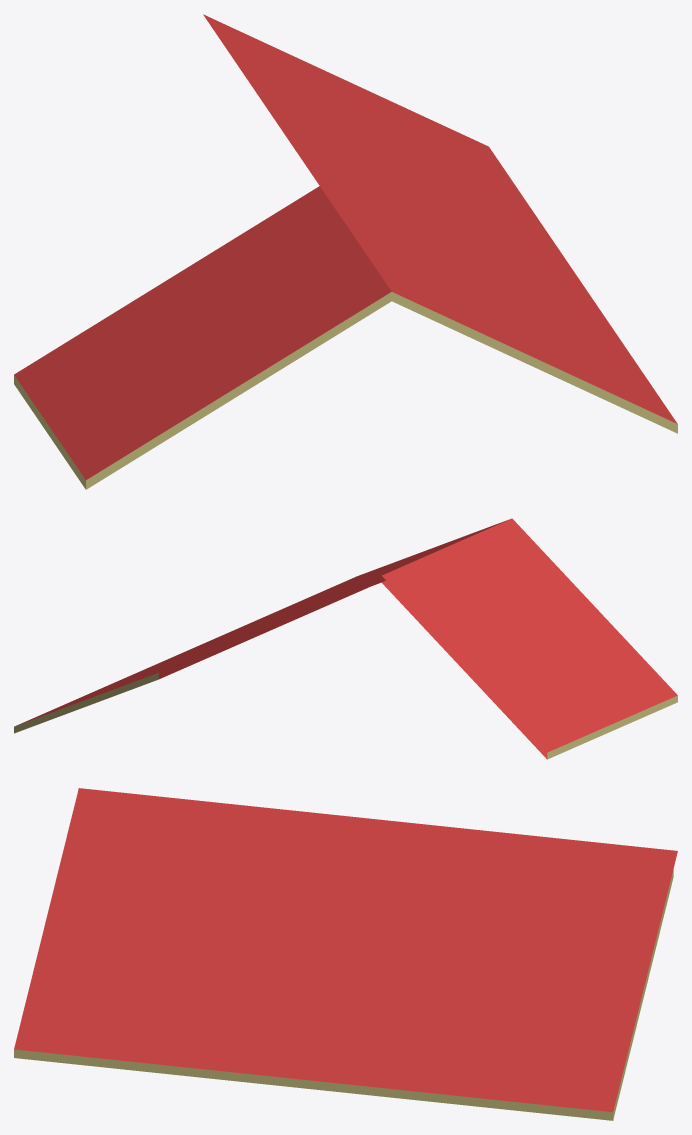
3 renders of one model, top to bottom at view 1: azimuth 30°, elevation 25°; view 2: azimuth 150°, elevation 25°; view 3: azimuth 270°, elevation 25°, orthographic. The views are drawn at different scales.
Bounding box in the file's own units: 7.22 × 6.97 × 1.85.
